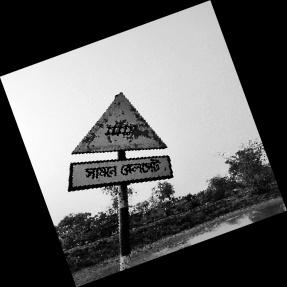Rail-crossing: (68, 94, 172, 191)
